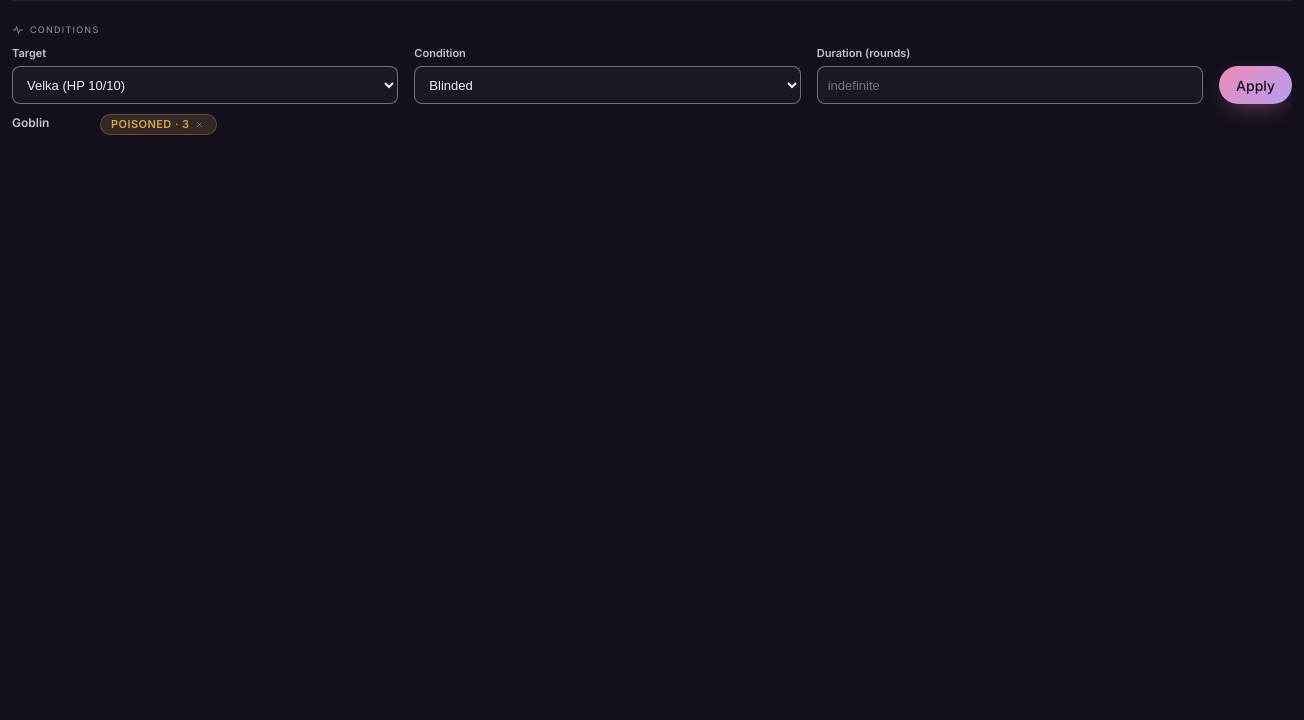
Scenario: ConditionsPanel — apply wiring › maps target_not_found to clean copy (never a raw engine string)
Click the button "Apply ": (1256, 85) [1219,66,1292,104]
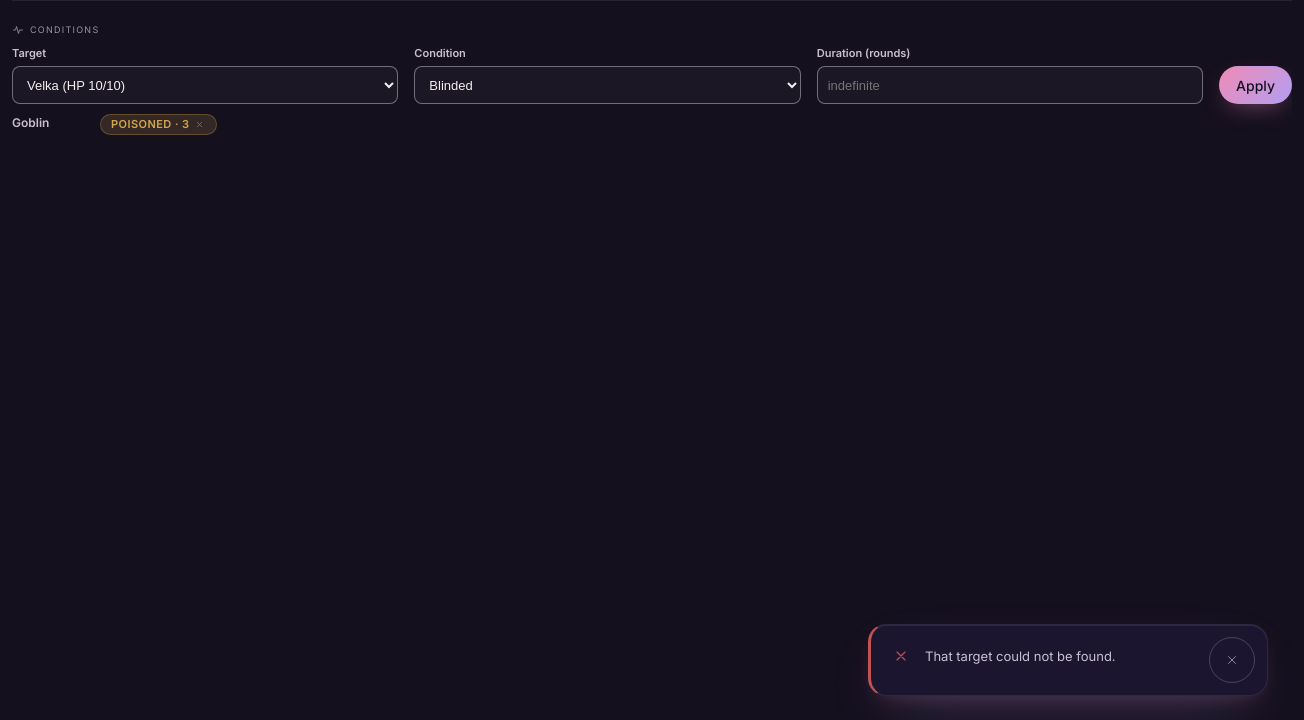
Result: the text "That target could not be found." is shown at [925,648,1116,664]
